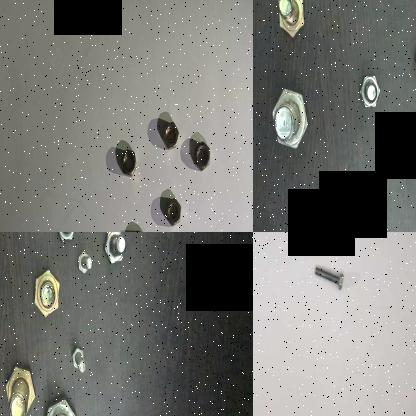Bolts: (273, 81, 312, 150), (2, 362, 36, 416), (31, 268, 62, 319), (273, 0, 309, 43), (358, 65, 382, 113), (310, 266, 349, 292), (103, 232, 129, 268), (42, 393, 82, 416), (68, 343, 89, 385), (75, 248, 96, 279), (53, 232, 79, 245)
NUTS: (118, 147, 139, 181), (193, 140, 213, 174), (160, 120, 180, 154), (165, 196, 182, 231)
